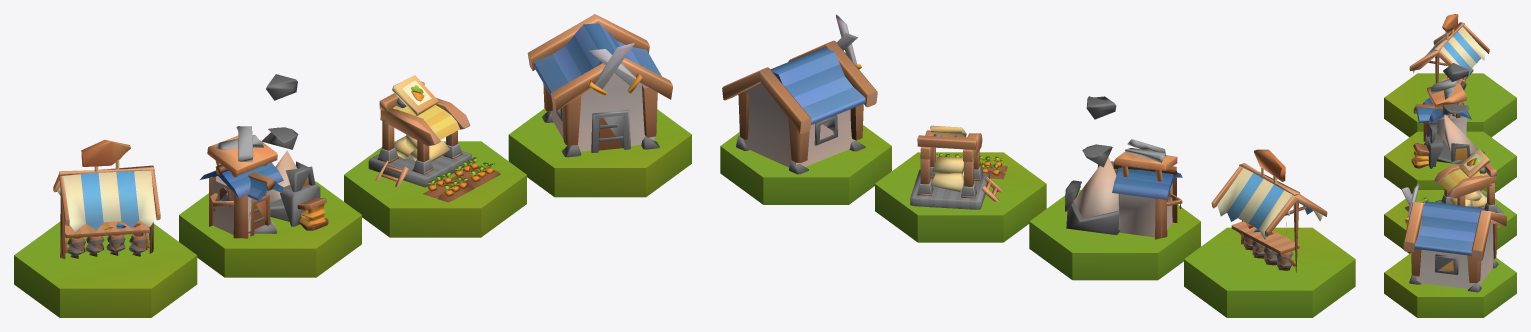
File: BLD_MetHouse_lod.glb
3 views of the same model, side by side, from view 1: azimuth 30°, elevation 25°; view 2: azimuth 150°, elevation 25°; view 3: azimuth 270°, elevation 25° (orthographic). The views are drawn at different scales.
Parts seen in each view (by area): view 1: Circle, Barracks, ForgeHouse, FishermanMarket, FarmCarrot; view 2: Circle, Barracks, ForgeHouse, FishermanMarket, FarmCarrot; view 3: Circle, Barracks, ForgeHouse, FarmCarrot, FishermanMarket.
Boxes of the visible parts, left/top/right/bottom form: Circle: left=14, top=108, right=691, bottom=317; Barracks: left=527, top=14, right=672, bottom=157; ForgeHouse: left=200, top=74, right=328, bottom=238; FishermanMarket: left=53, top=140, right=160, bottom=258; FarmCarrot: left=368, top=75, right=500, bottom=202; Circle: left=720, top=125, right=1355, bottom=317; Barracks: left=722, top=14, right=877, bottom=174; ForgeHouse: left=1065, top=96, right=1182, bottom=239; FishermanMarket: left=1211, top=149, right=1327, bottom=272; FarmCarrot: left=910, top=125, right=1007, bottom=209; Circle: left=1384, top=73, right=1516, bottom=317; Barracks: left=1401, top=182, right=1506, bottom=292; ForgeHouse: left=1411, top=63, right=1484, bottom=168; FarmCarrot: left=1405, top=149, right=1503, bottom=214; FishermanMarket: left=1409, top=14, right=1489, bottom=90.
Size of the model in its own units: 32.52 by 7.74 by 8.16.
Materials: 1 (1 with a texture image).
